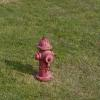Hydrant: (33, 28, 57, 87)
